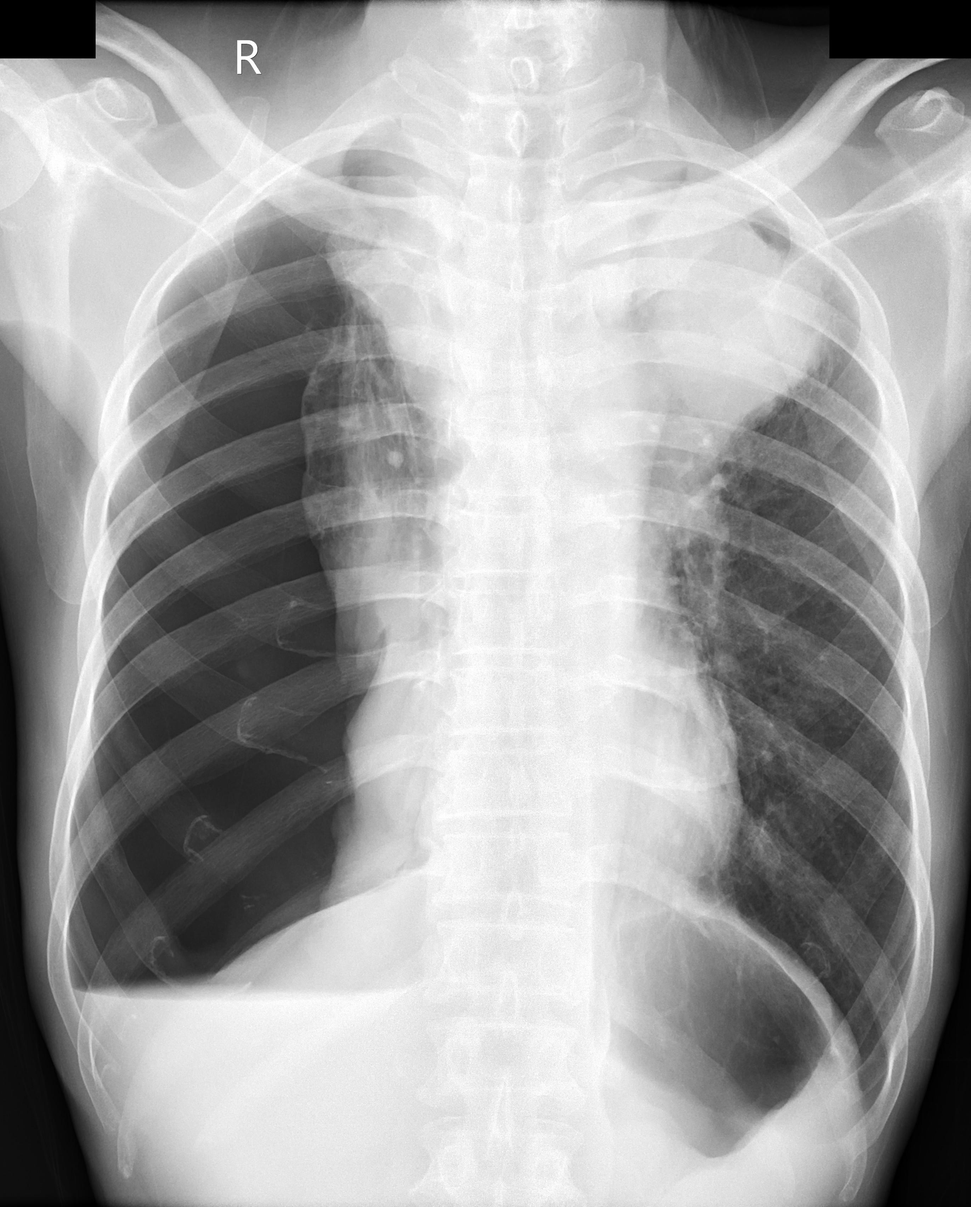Pleural thickening: (68, 976, 192, 1032)
